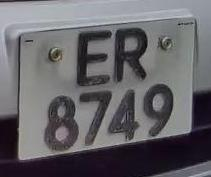4: (110, 84, 139, 141)
7: (77, 86, 112, 146)
8: (39, 87, 80, 152)
9: (140, 81, 177, 140)
E: (71, 27, 114, 91)
R: (112, 23, 150, 86)
